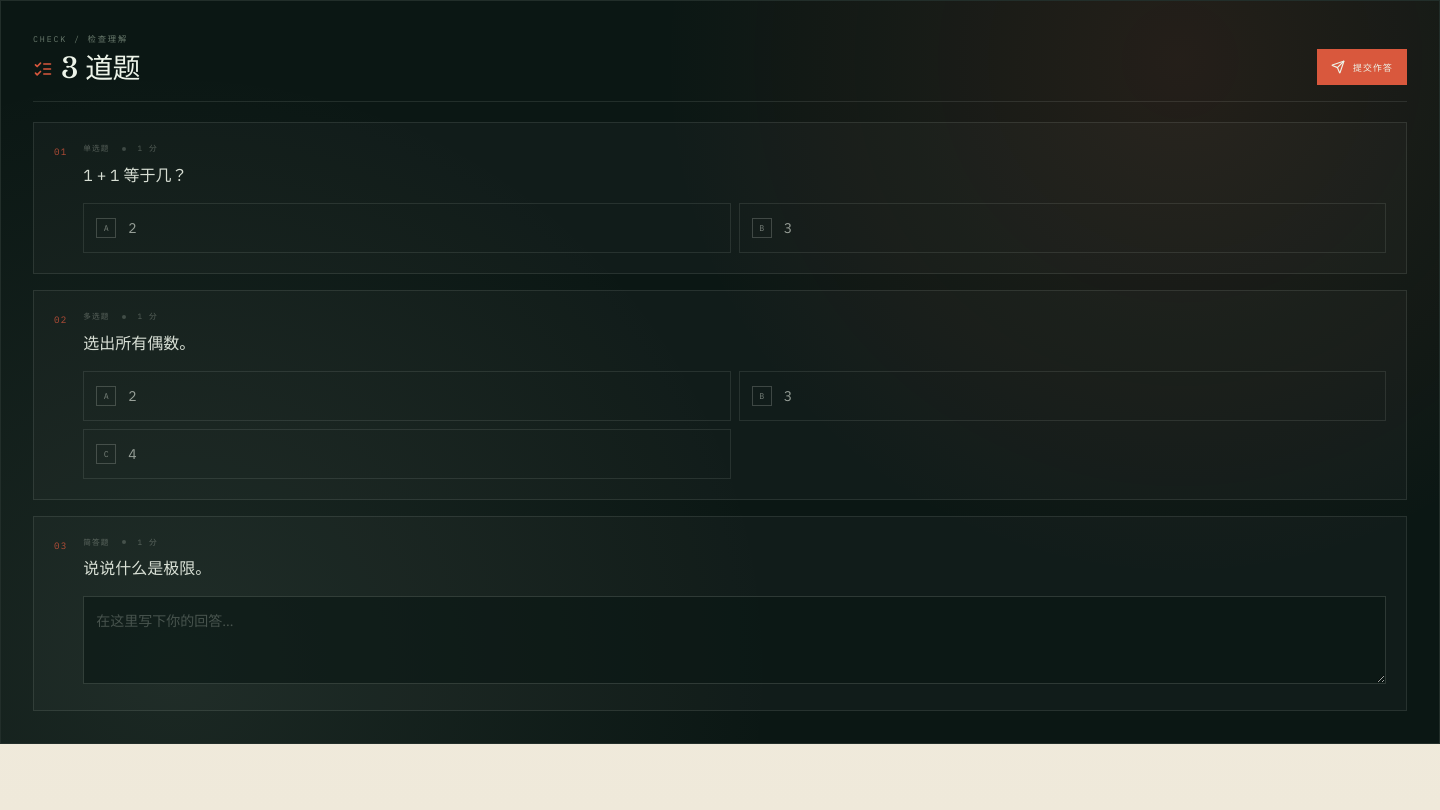
Test: QuizStage › requires an answer before submitting
Click the button "提交作答": click(1362, 68) [1317, 50, 1407, 86]
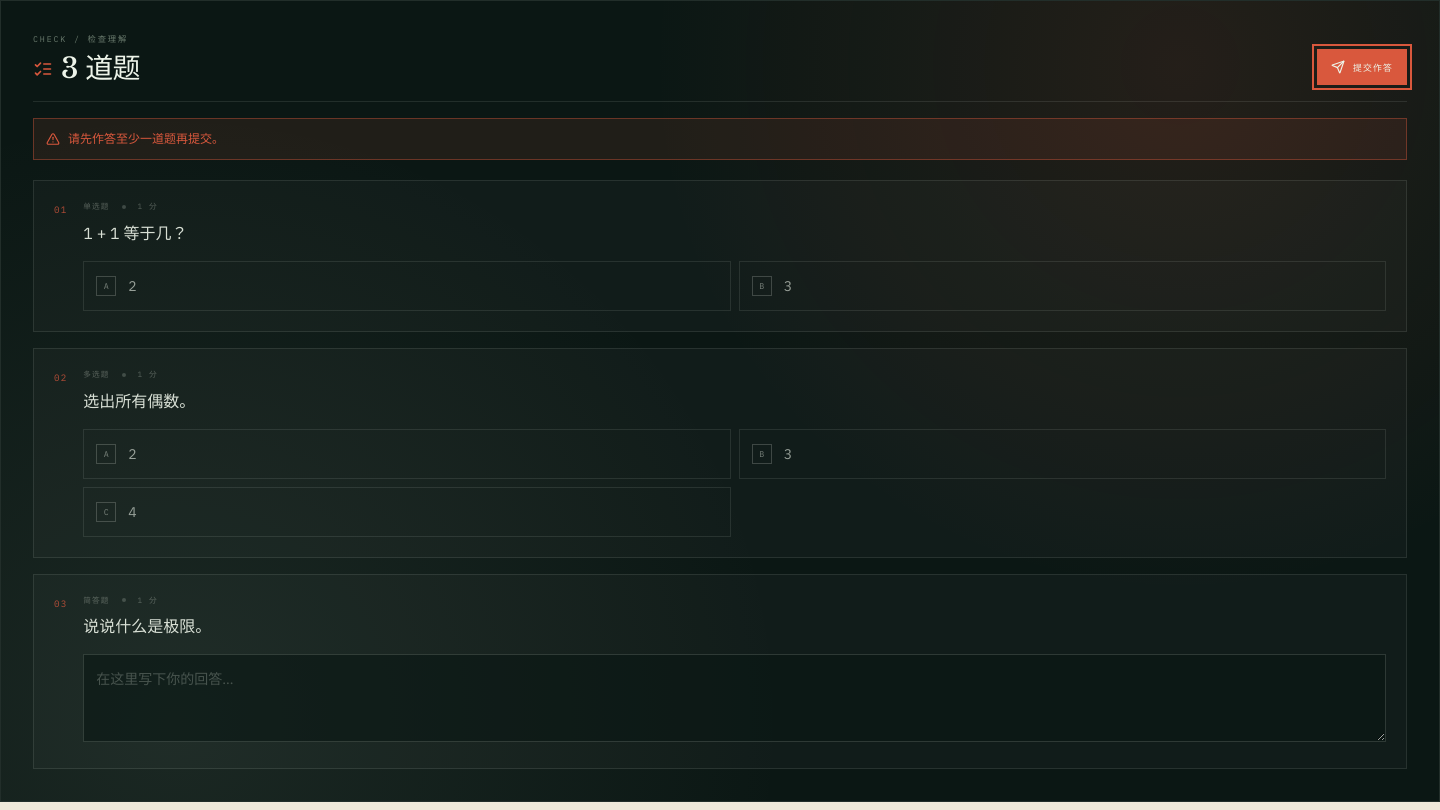
Now the message shows "请先作答", box [68, 132, 224, 146]
